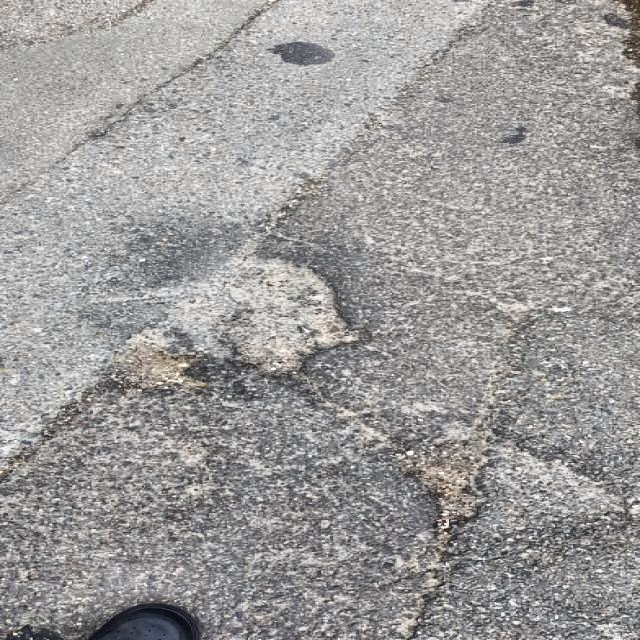Pothole: (98, 248, 374, 394)
